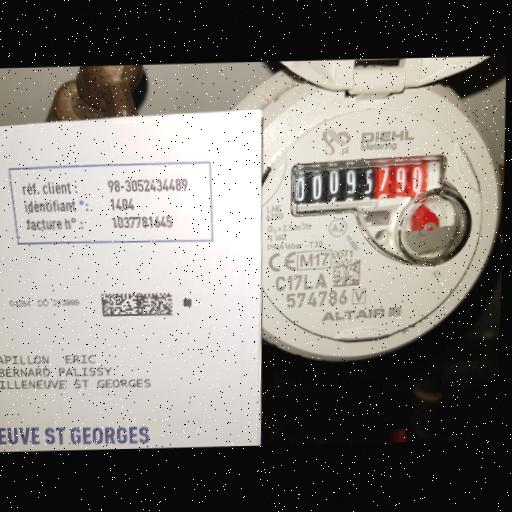0: (325, 169, 343, 203), (410, 163, 427, 196), (294, 172, 310, 204), (310, 171, 326, 203)
5: (361, 167, 377, 200)
7: (375, 166, 391, 200)
9: (343, 168, 361, 201), (393, 165, 409, 198)
border_water_meter_number: (288, 154, 450, 216)
